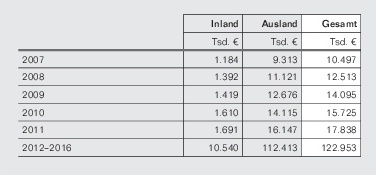table: (0, 0, 376, 175)
